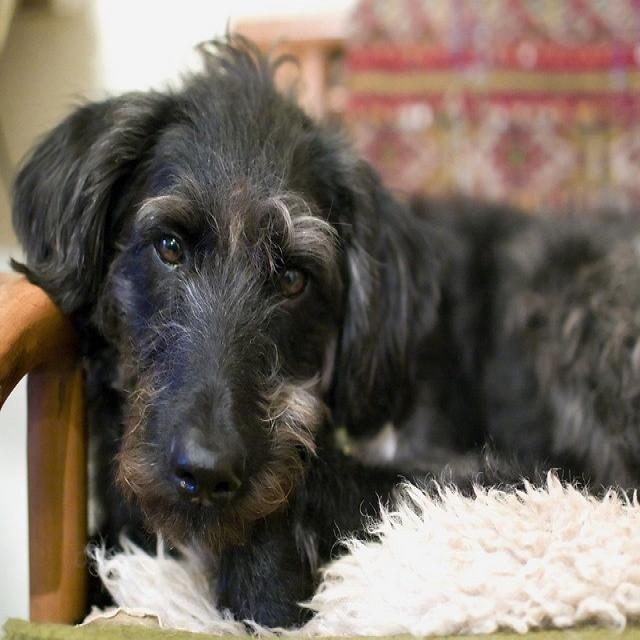dog: (8, 33, 635, 624)
